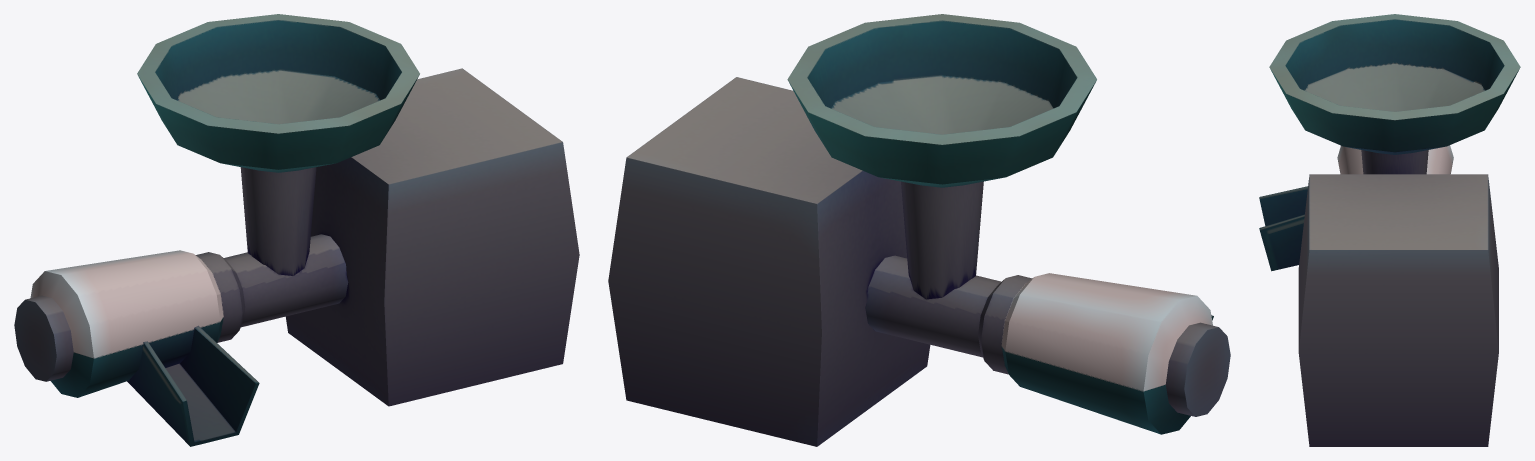
File: Grinder_mesh.fbx
3 renders of one model, left to right at view 1: azimuth 30°, elevation 25°; view 2: azimuth 150°, elevation 25°; view 3: azimuth 270°, elevation 25°, orthographic. The views are drawn at different scales.
Parts seen in each view (by area): view 1: pCube5; view 2: pCube5; view 3: pCube5.
Boxes of the visible parts, x1,y1,x2,y2 form: pCube5: (14,14,579,446); pCube5: (608,14,1230,446); pCube5: (1259,14,1520,446).
Bounding box in the file's own units: 8.54 × 5.24 × 4.45.
